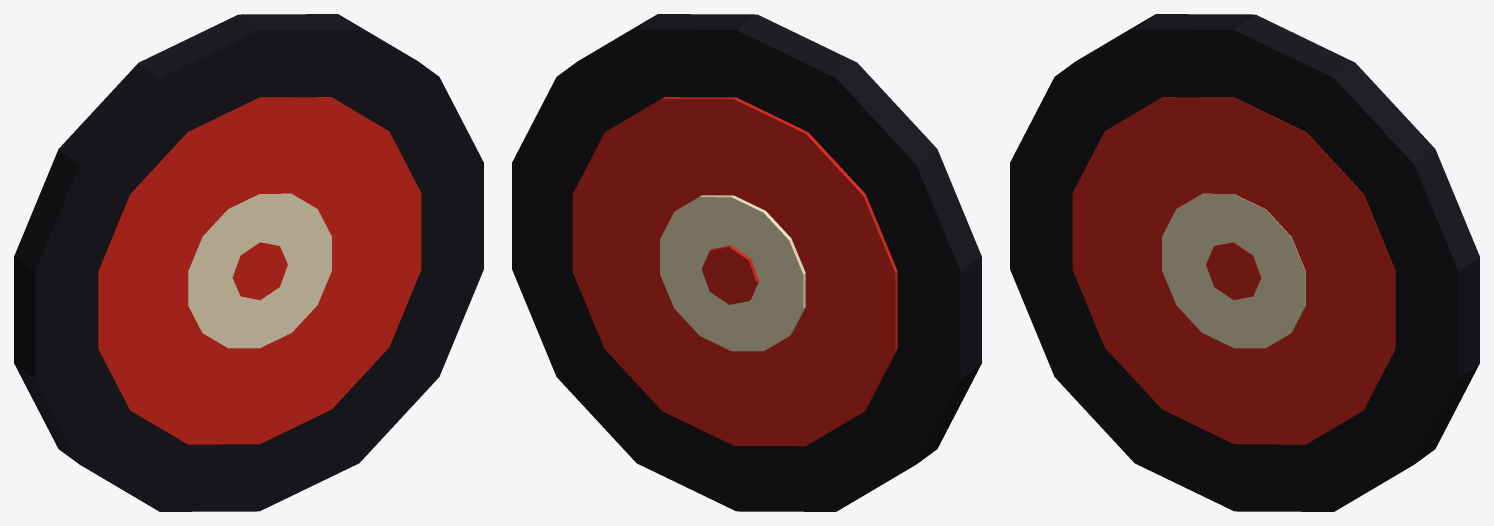
The model's file is dartboard.glb.
3 views of the same model, side by side, from view 1: azimuth 30°, elevation 25°; view 2: azimuth 150°, elevation 25°; view 3: azimuth 330°, elevation 25° (orthographic).
Visible parts, largest first — view 1: dartboard; view 2: dartboard; view 3: dartboard.
Boxes of the visible parts, <box> form: dartboard: <box>14,14,483,511</box>; dartboard: <box>512,14,981,511</box>; dartboard: <box>1010,14,1479,511</box>.
Bounding box in the file's own units: 0.4875 × 0.5 × 0.055.
